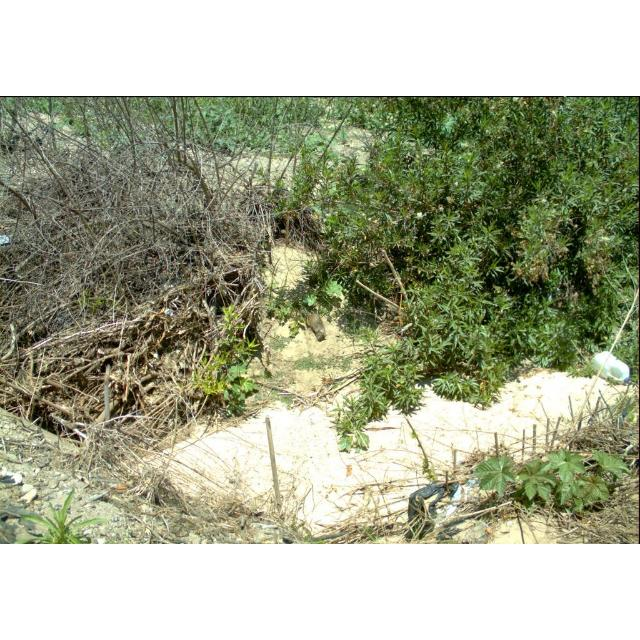animals: (305, 300, 329, 346)
